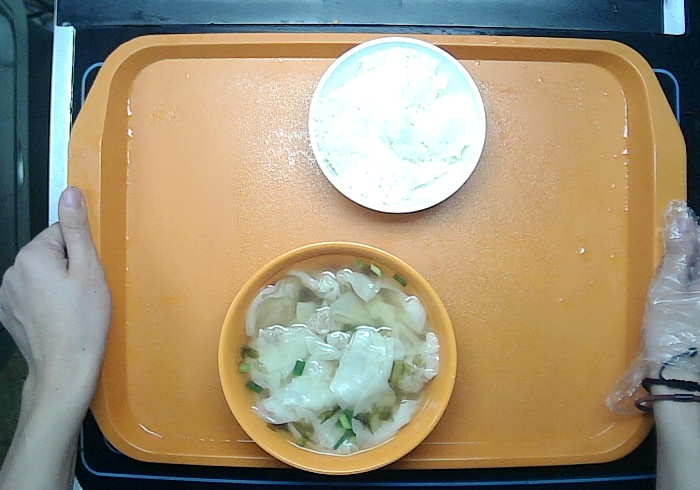NLDX-Fan_Wan: (307, 34, 489, 214)
NLDX-Hun_Tun_Wan: (215, 239, 459, 476)
